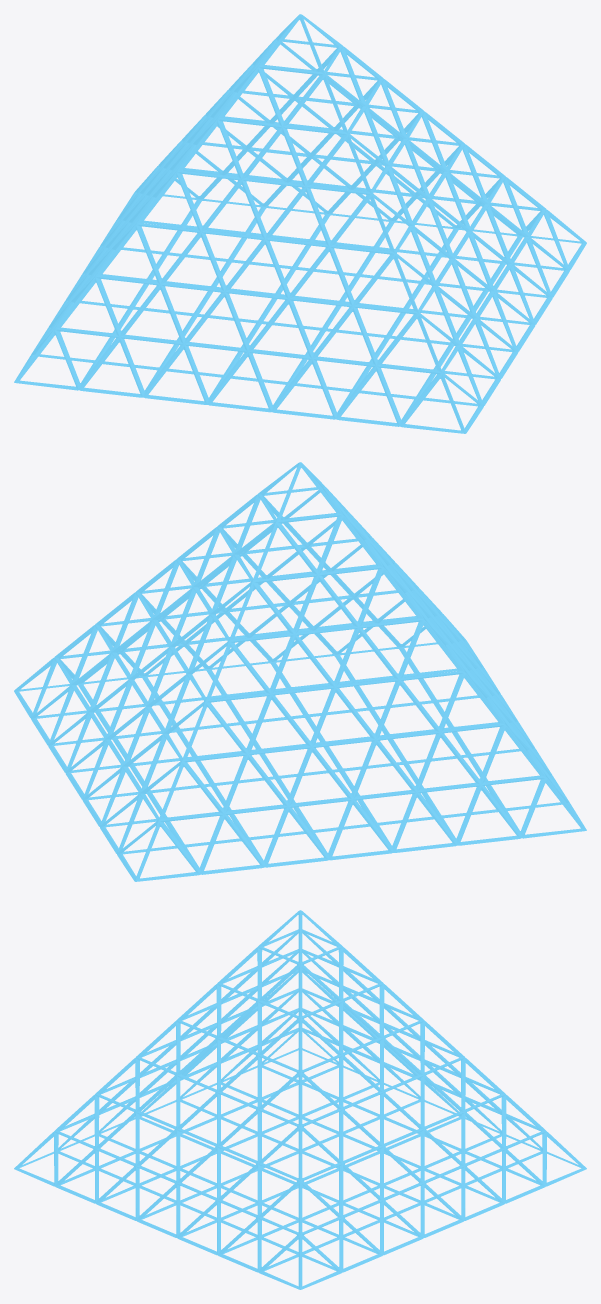
3 renders of one model, top to bottom at view 1: azimuth 30°, elevation 25°; view 2: azimuth 150°, elevation 25°; view 3: azimuth 270°, elevation 25°, orthographic. The views are drawn at different scales.
Parts seen in each view (by area): view 1: Cone_1; view 2: Cone_1; view 3: Cone_1.
Boxes of the visible parts, bbox=[...] form: Cone_1: bbox=[14, 14, 586, 433]; Cone_1: bbox=[14, 462, 586, 881]; Cone_1: bbox=[14, 910, 586, 1289].
Bounding box in the file's own units: 2.01 × 1.01 × 2.01.
